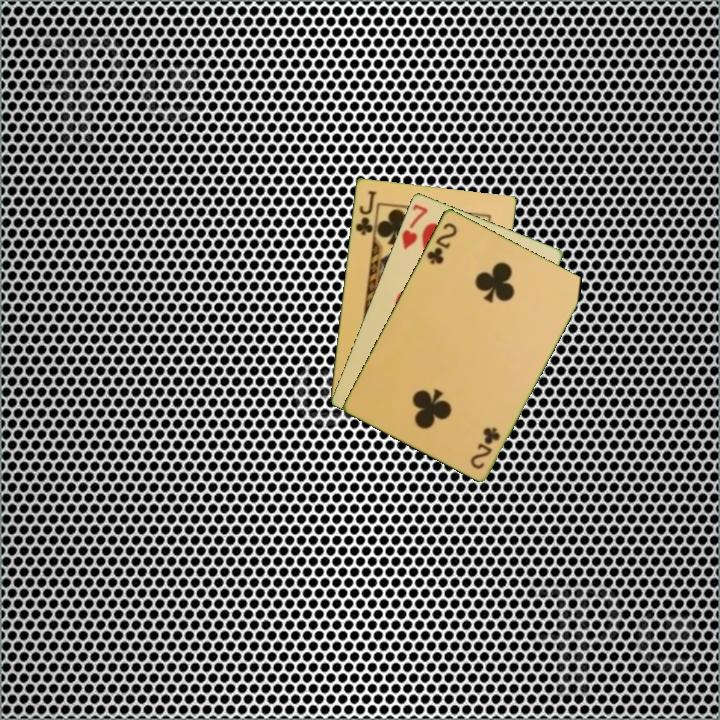2c: (423, 219, 460, 267), (467, 423, 503, 472)
7h: (398, 200, 430, 252)
Jc: (352, 187, 379, 237)
